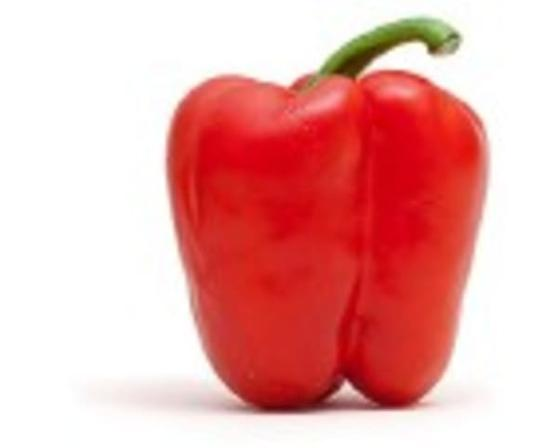pepper: (151, 13, 493, 412)
